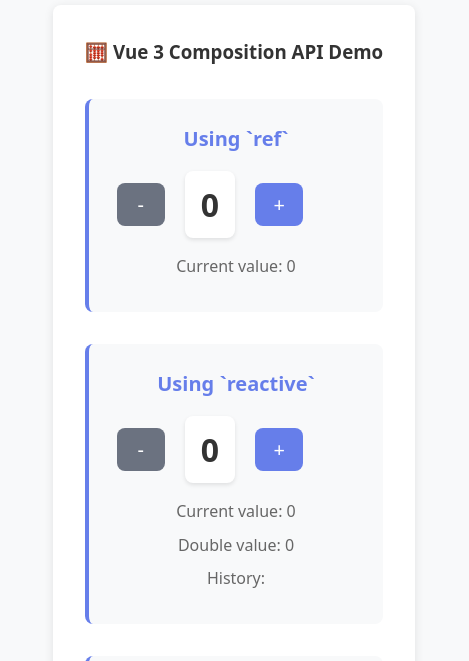
it: Counter.vue › decrements ref counter when - button is clicked
// Click to decrement
Step 1. Click the button "-" below "Using `ref`" → click(141, 204), box x1=117 y1=183 x2=165 y2=226
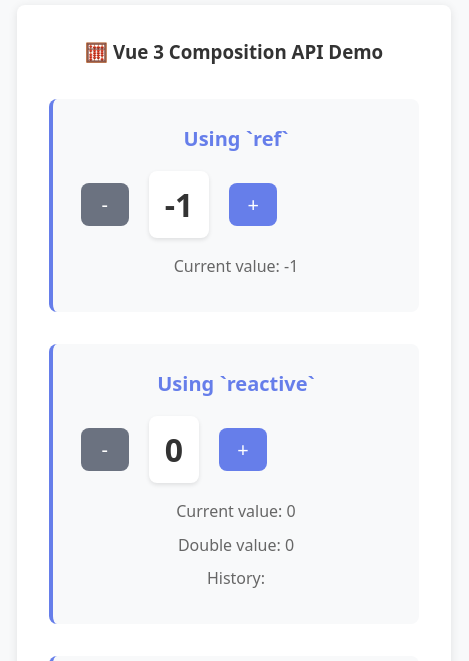
Expected: the text with class "count" reads "-1", x1=165 y1=183 x2=193 y2=226
